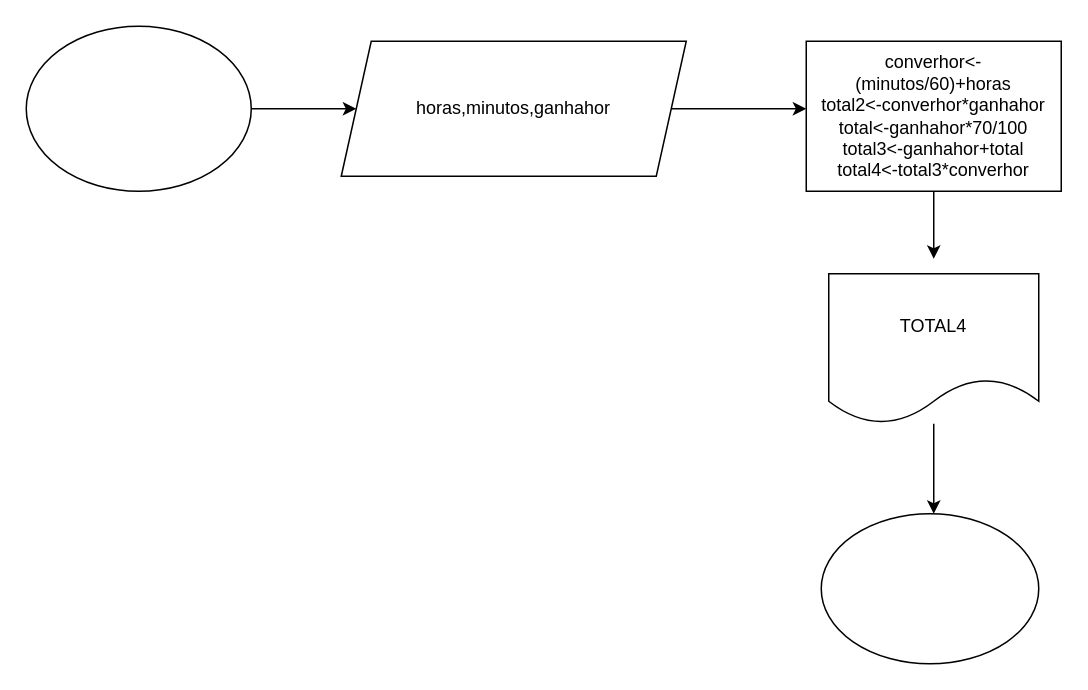
Some shapes in this 1088 by 690 pixel diagram are drawn without their labels. The centre of each missing label's shape, as x and y in pixels:
"FIM" goes at (x=929, y=588).
"INICIO" goes at (x=138, y=108).
